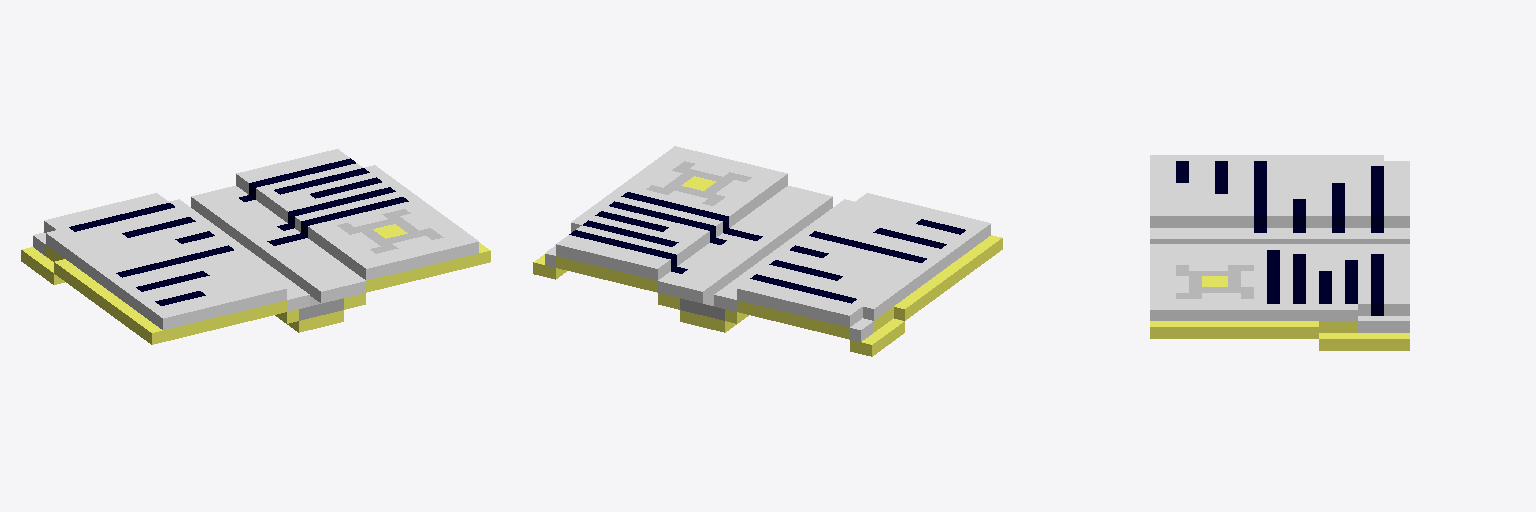
3 views of the same model, side by side, from view 1: azimuth 30°, elevation 25°; view 2: azimuth 150°, elevation 25°; view 3: azimuth 270°, elevation 25° (orthographic).
Visible parts, largest first — view 1: object 1; view 2: object 1; view 3: object 1.
Part boxes in pixels (left/top/right/bottom): object 1: left=21, top=149, right=490, bottom=344; object 1: left=533, top=146, right=1002, bottom=356; object 1: left=1150, top=155, right=1409, bottom=350.
Bounding box in the file's own units: 3 × 0.4 × 2.
1 materials, 1 textured.